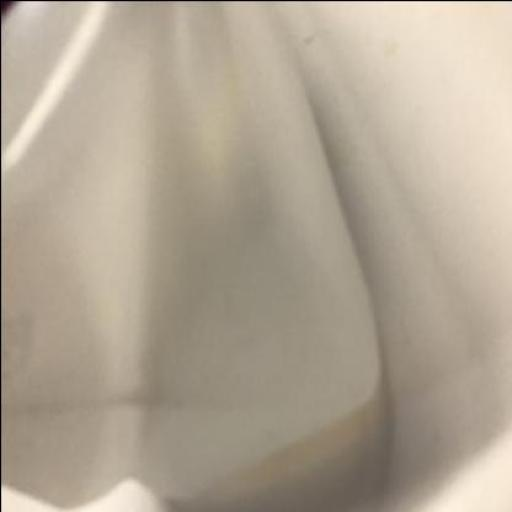plastic: (2, 0, 380, 507)
